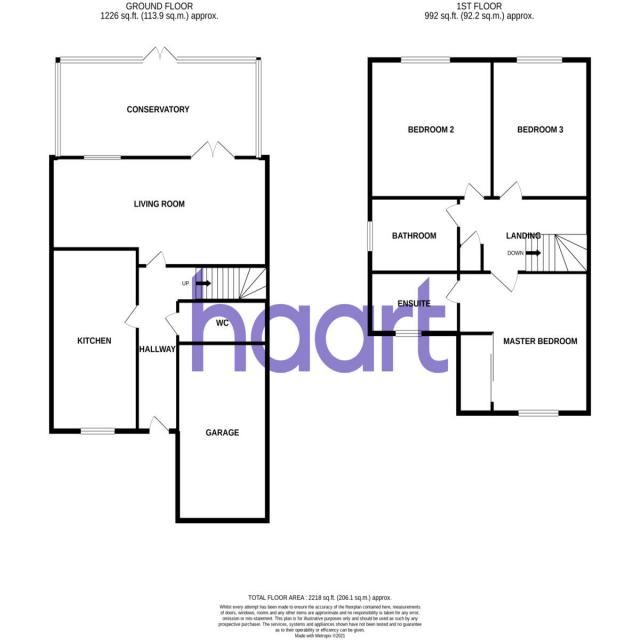DOOR: (489, 270, 520, 295), (145, 410, 176, 433), (162, 310, 180, 340), (122, 301, 139, 331), (498, 180, 523, 200), (444, 277, 461, 306), (144, 249, 168, 268), (463, 181, 486, 200)
DOUBLE DOOR: (190, 137, 237, 160)
ROOM: (49, 137, 270, 268), (440, 270, 591, 416), (367, 57, 491, 200), (49, 247, 139, 433), (492, 57, 591, 199)
WINDOW: (516, 55, 565, 68), (400, 55, 453, 67), (517, 408, 560, 419), (80, 427, 116, 436), (83, 154, 122, 162), (366, 220, 375, 253), (394, 329, 423, 338)
